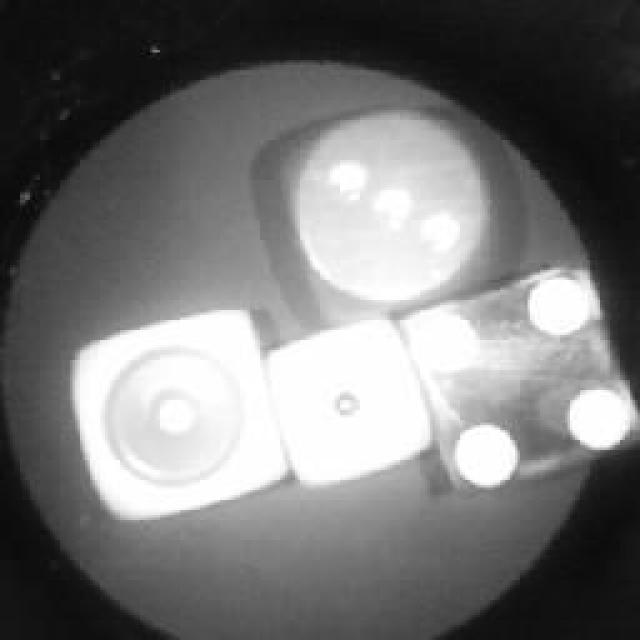dice_1: (58, 300, 288, 522), (262, 312, 448, 498)
dice_3: (252, 80, 518, 330)
dice_4: (400, 252, 640, 498)
